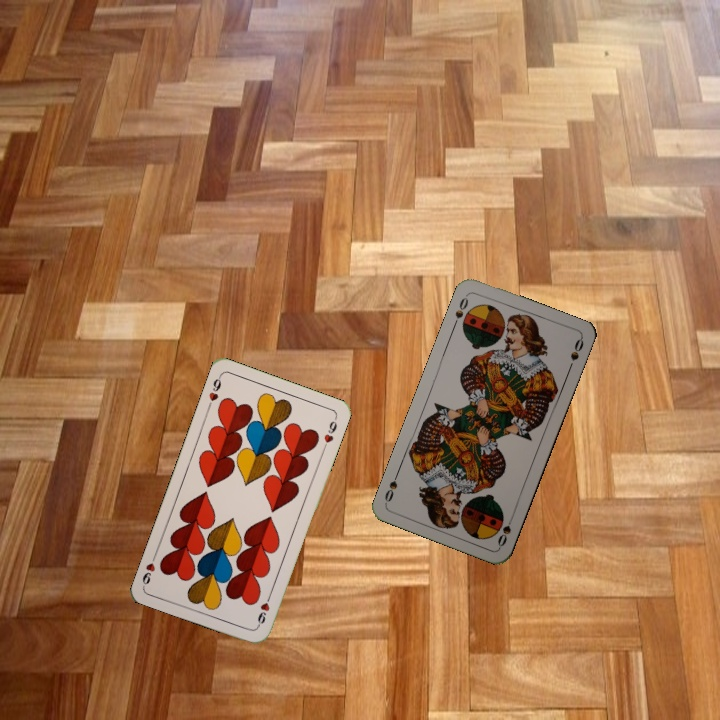H9: (253, 590, 274, 629), (204, 372, 224, 411)
SO: (494, 511, 517, 549), (449, 291, 471, 329)
